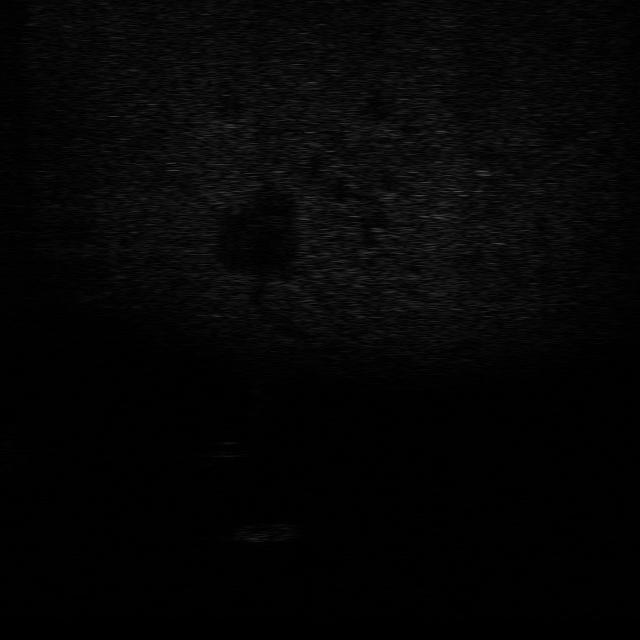ball: (202, 432, 252, 462)
circle cage: (226, 516, 305, 545)
human body: (242, 360, 276, 416)
